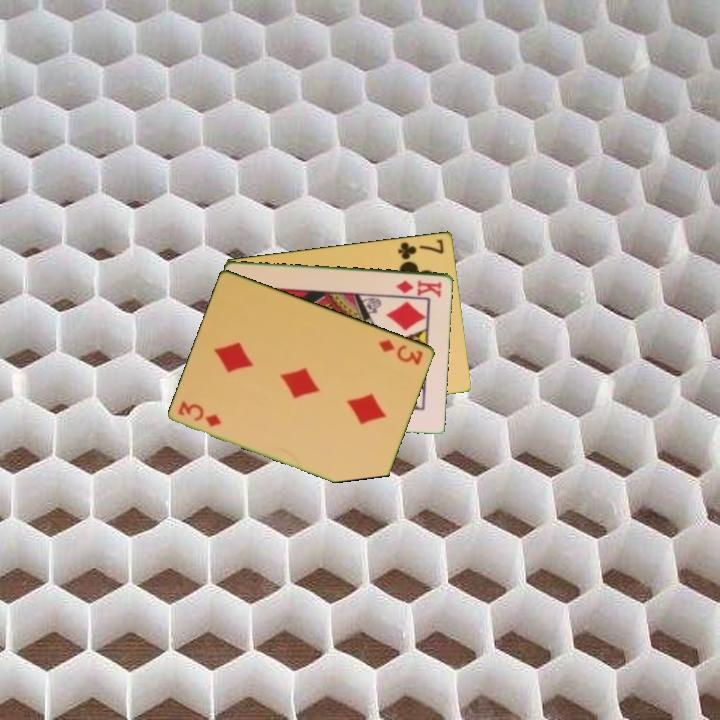3d: (375, 335, 426, 368), (175, 398, 224, 430)
7c: (394, 235, 447, 262)
Kd: (393, 276, 444, 298)
